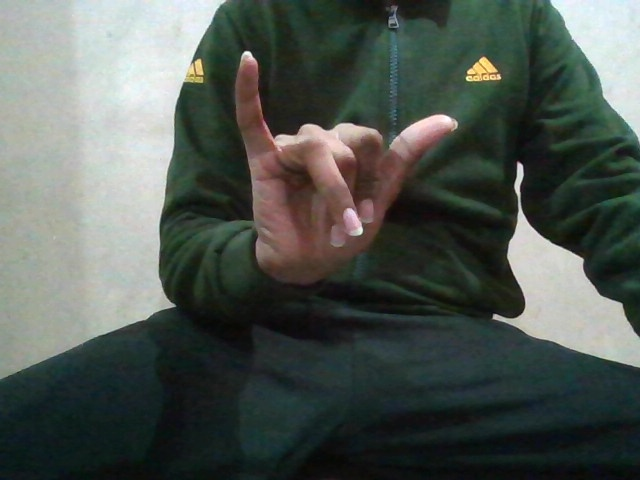Y: (229, 50, 461, 279)
